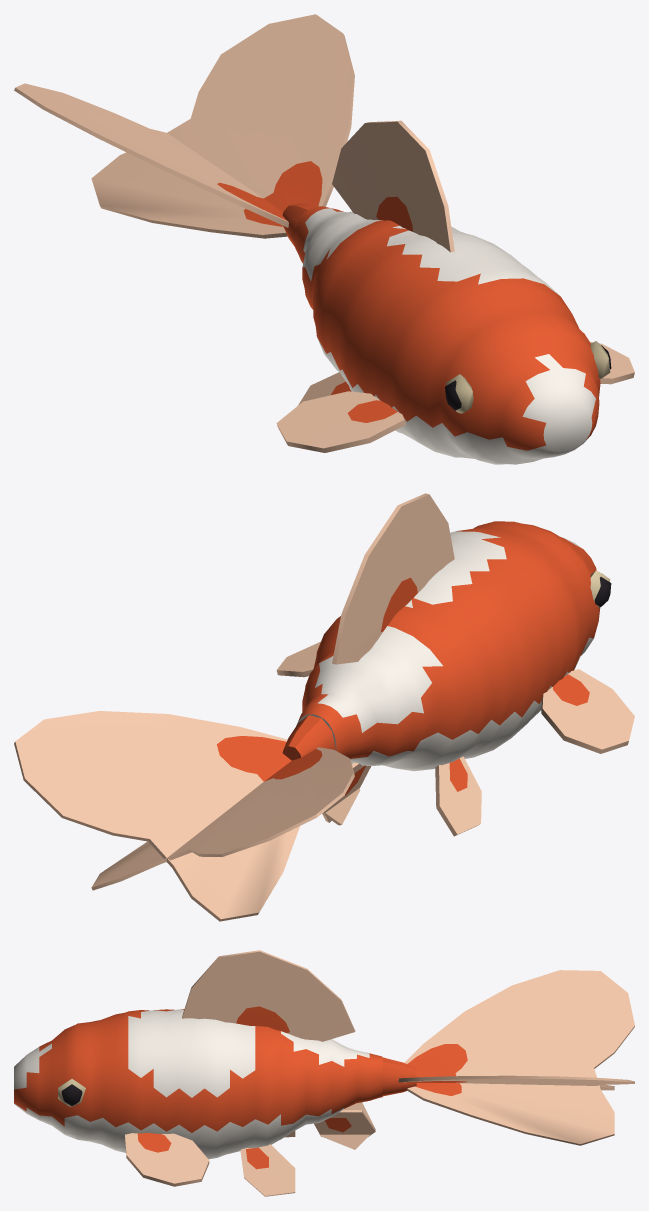
File: kingyo_sarasa.glb
The picture shows the model from 3 angles, top to bottom: view 1: azimuth 30°, elevation 25°; view 2: azimuth 150°, elevation 25°; view 3: azimuth 270°, elevation 25°; orthographic projection. The views are drawn at different scales.
Parts seen in each view (by area): view 1: body, tail; view 2: body, tail; view 3: body, tail.
Part boxes in pixels (x1,y1,x2,y2): body: (276, 120, 634, 464); tail: (14, 14, 354, 246); body: (276, 493, 634, 836); tail: (14, 711, 354, 921); body: (14, 950, 382, 1196); tail: (382, 970, 634, 1145).
Bounding box in the file's own units: 0.0423 × 0.0351 × 0.091.
